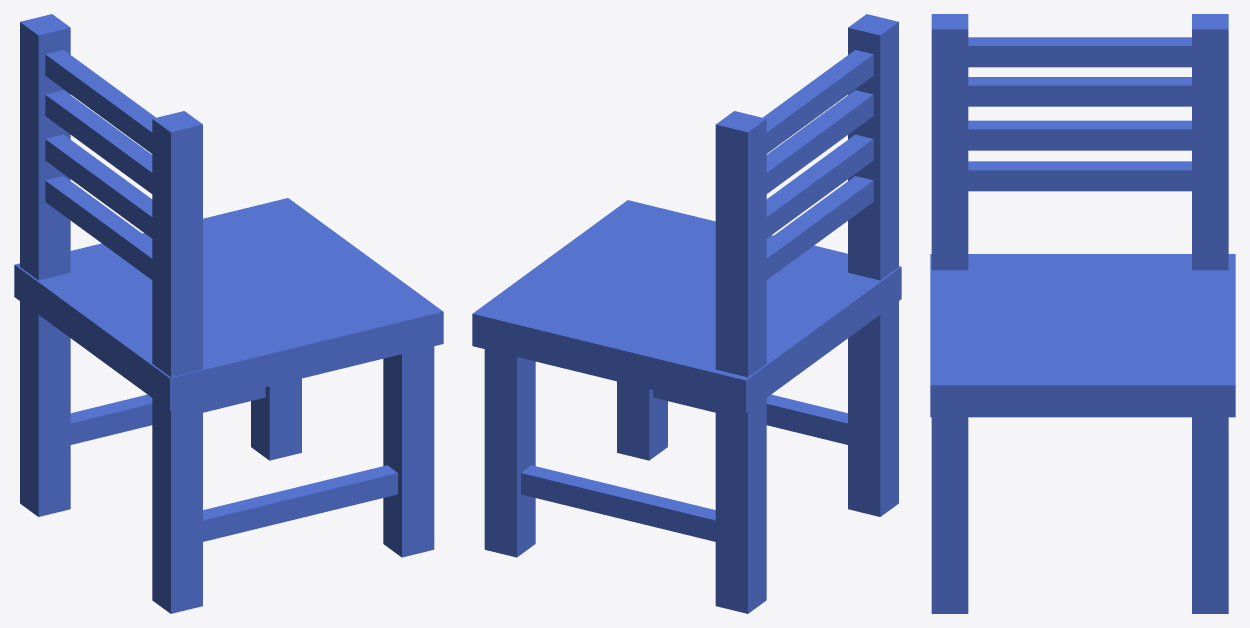
The model's file is chair-transformed.glb.
3 renders of one model, left to right at view 1: azimuth 30°, elevation 25°; view 2: azimuth 150°, elevation 25°; view 3: azimuth 270°, elevation 25°, orthographic.
Parts seen in each view (by area): view 1: chair; view 2: chair; view 3: chair.
Part boxes in pixels (left/top/right/bottom): chair: left=14, top=14, right=443, bottom=613; chair: left=472, top=14, right=901, bottom=613; chair: left=930, top=14, right=1235, bottom=613.
Bounding box in the file's own units: 70.81 × 119 × 69.63.
